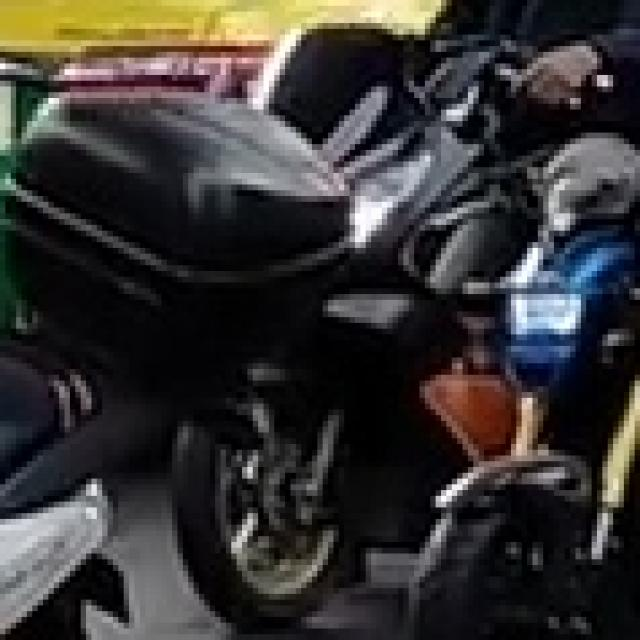door: (0, 0, 635, 634)
helmet: (490, 127, 634, 415)
tyre: (166, 381, 350, 628)
